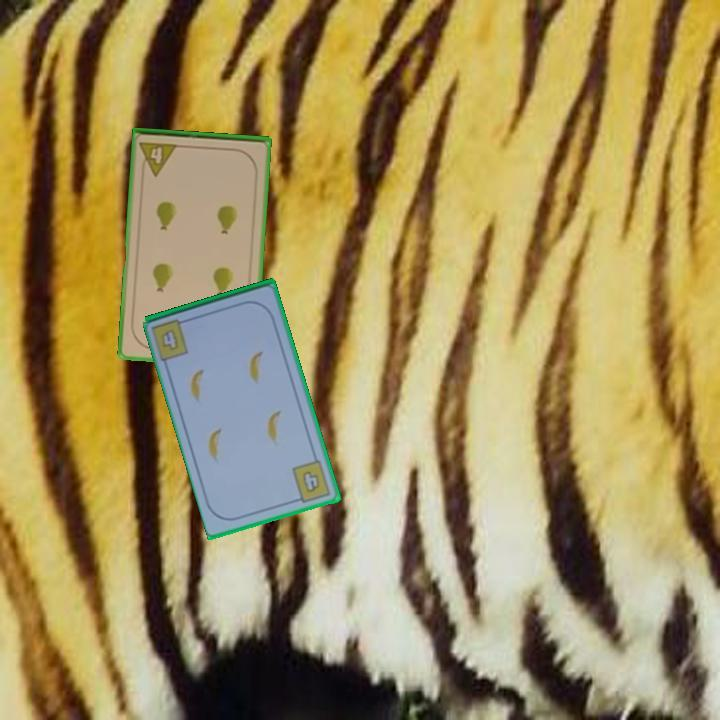4b: (288, 456, 334, 505), (158, 326, 181, 354)
4p: (136, 138, 181, 178)
